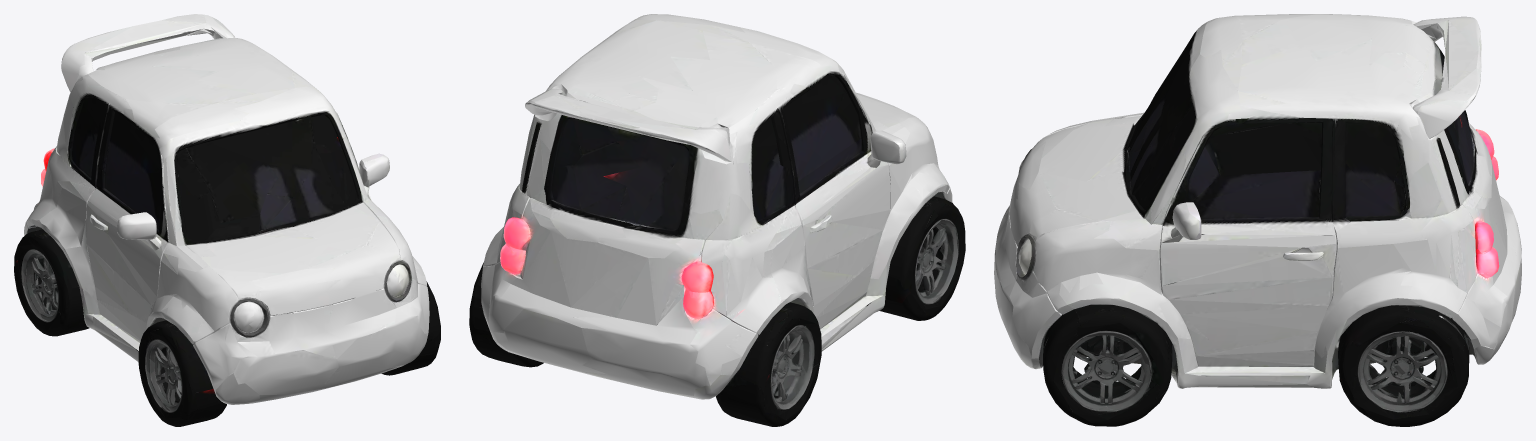
File: kei.glb
The picture shows the model from 3 angles, left to right: view 1: azimuth 30°, elevation 25°; view 2: azimuth 150°, elevation 25°; view 3: azimuth 270°, elevation 25°; orthographic projection. The views are drawn at different scales.
Visible parts, largest first — view 1: kei; view 2: kei; view 3: kei.
Boxes of the visible parts, <box> form: kei: <box>14,14,440,426</box>; kei: <box>469,14,965,426</box>; kei: <box>994,14,1521,426</box>.
Size of the model in its own units: 2.76 by 2.48 by 3.9.
Materials: 1 (1 with a texture image).
